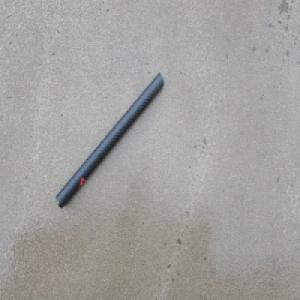LuggagePart: (56, 70, 165, 210)
